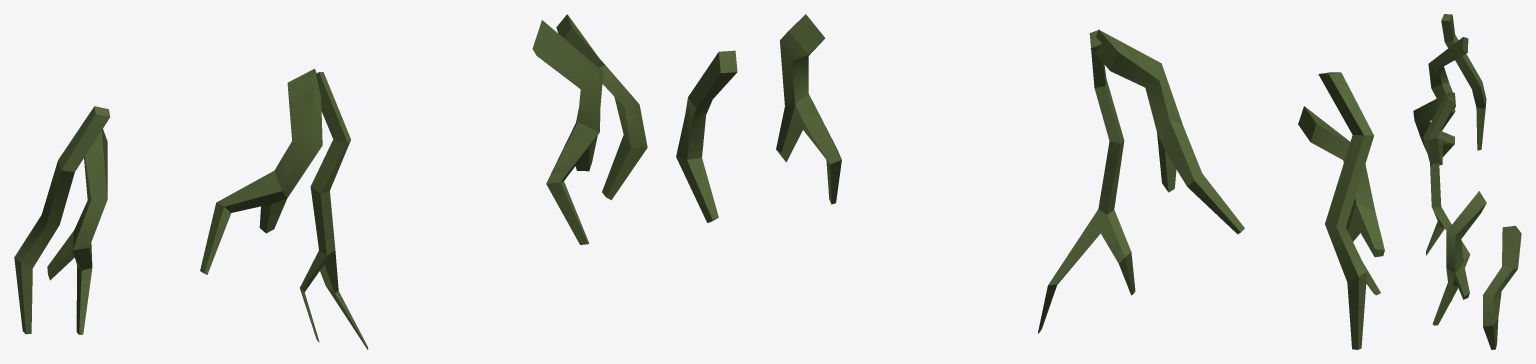
File: source.gltf
3 renders of one model, left to right at view 1: azimuth 30°, elevation 25°; view 2: azimuth 150°, elevation 25°; view 3: azimuth 270°, elevation 25°, orthographic. The views are drawn at different scales.
Parts seen in each view (by area): view 1: SM_Terrain_GrassEdge_Roots_02; view 2: SM_Terrain_GrassEdge_Roots_02; view 3: SM_Terrain_GrassEdge_Roots_02.
Boxes of the visible parts, x1,y1,x2,y2 form: SM_Terrain_GrassEdge_Roots_02: (14,14,647,349); SM_Terrain_GrassEdge_Roots_02: (676,14,1384,349); SM_Terrain_GrassEdge_Roots_02: (1413,14,1521,349).
Size of the model in its own units: 3.52 by 1.64 by 0.8024.
1 material, 1 textured.
